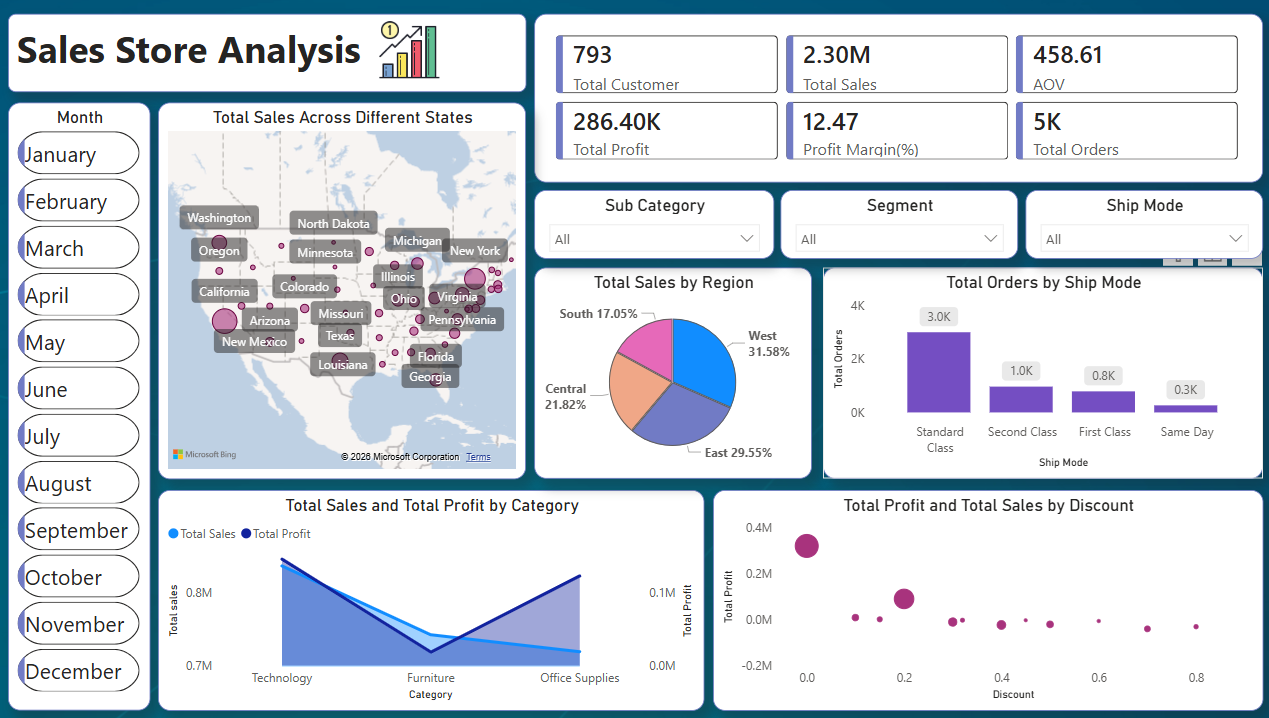

The dashboard page shown, as its layout file describes it:
{"tool":"powerbi","page":{"name":"Page 1","canvas":[1280,720],"ordinal":0},"visuals":[{"type":"textbox","box":[9.7,13.3,518.8,78.4],"z":0},{"type":"cardVisual","fields":{"Data":["Superstore dataset.Total Customer","Superstore dataset.Total Sales","Superstore dataset.AOV","Superstore dataset.Total Profit","Superstore dataset.Profit Margin(%)","Superstore dataset.Total Orders"]},"box":[536.9,13.3,728.7,168.9],"z":1000},{"type":"advancedSlicerVisual","fields":{"Values":["Superstore dataset.Order Date.Variation.Date Hierarchy.Month"]},"box":[9.7,102.5,142.4,608],"z":2000},{"type":"map","title":"Total Sales Across Different States","fields":{"Category":["Superstore dataset.State"],"Size":["Superstore dataset.Total Sales"]},"box":[160.5,102.5,368,376.4],"z":3000},{"type":"areaChart","fields":{"Y":["Superstore dataset.Total Sales"],"Y2":["Superstore dataset.Total Profit"],"Category":["Superstore dataset.Category"]},"box":[160.5,489.8,546.5,220.8],"z":4000},{"type":"pieChart","fields":{"Y":["Superstore dataset.Total Sales"],"Category":["Superstore dataset.Region"]},"box":[536.9,267.8,277.5,211.1],"z":5000},{"type":"columnChart","fields":{"Category":["Superstore dataset.Ship Mode"],"Y":["Superstore dataset.Total Orders"]},"box":[825.2,267.8,440.4,211.1],"z":6000},{"type":"slicer","title":"Sub Category","fields":{"Values":["Superstore dataset.Sub-Category"]},"box":[536.9,190.6,240.1,68.8],"z":7000},{"type":"slicer","title":"Segment","fields":{"Values":["Superstore dataset.Segment"]},"box":[783,190.6,237.7,68.8],"z":8000},{"type":"slicer","title":"Ship Mode","fields":{"Values":["Superstore dataset.Ship Mode"]},"box":[1027.9,190.6,237.7,68.8],"z":9000},{"type":"scatterChart","title":"Total Profit by Discount","fields":{"X":["Superstore dataset.Discount"],"Y":["Superstore dataset.Total Profit"],"Size":["Superstore dataset.Total Profit"]},"box":[715.4,489.8,550.1,220.8],"z":10000},{"type":"image","box":[336.6,13.3,214.7,63.9],"z":10001}]}

Visuals, with their boxes in screenshot pixels (x1, y1, x2, y2), scaled from the page's 1280x720 canvas onto the 1269x718 screenshot:
textbox: x1=10 y1=13 x2=524 y2=91
cardVisual - Superstore dataset.Total Customer x Superstore dataset.Total Sales: x1=532 y1=13 x2=1255 y2=182
advancedSlicerVisual - Superstore dataset.Order Date.Variation.Date Hierarchy.Month: x1=10 y1=102 x2=151 y2=709
"Total Sales Across Different States" map: x1=159 y1=102 x2=524 y2=478
areaChart - Superstore dataset.Total Sales x Superstore dataset.Total Profit: x1=159 y1=488 x2=701 y2=709
pieChart - Superstore dataset.Total Sales x Superstore dataset.Region: x1=532 y1=267 x2=807 y2=478
columnChart - Superstore dataset.Ship Mode x Superstore dataset.Total Orders: x1=818 y1=267 x2=1255 y2=478
"Sub Category" slicer: x1=532 y1=190 x2=770 y2=259
"Segment" slicer: x1=776 y1=190 x2=1012 y2=259
"Ship Mode" slicer: x1=1019 y1=190 x2=1255 y2=259
"Total Profit by Discount" scatterChart: x1=709 y1=488 x2=1255 y2=709
image: x1=334 y1=13 x2=547 y2=77
